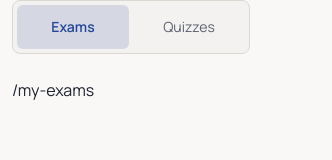
Test case: Practice library switcher › opens both libraries under the shared destination (tutor=false)
Click the button "Quizzes" at (189, 27), box [133, 5, 245, 49]
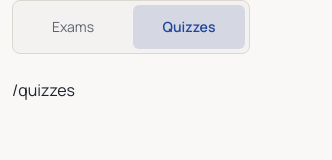
Expected: the text named "path" reads "/quizzes", [12, 79, 75, 101]
Click the button "Exams" at (73, 27), box [17, 5, 129, 49]
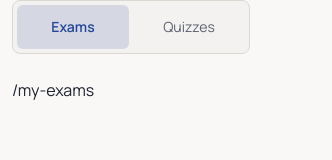
Expected: the text named "path" reads "/my-exams", [12, 79, 94, 101]
